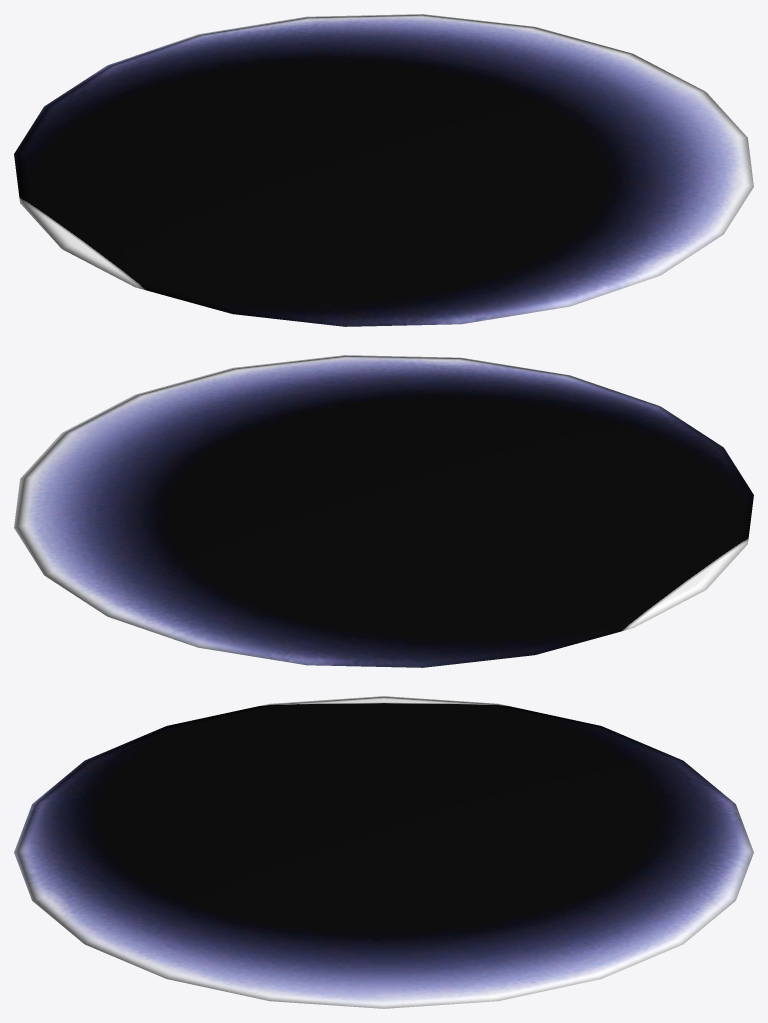
File: swordTrail.FBX
3 views of the same model, one above another, from view 1: azimuth 30°, elevation 25°; view 2: azimuth 150°, elevation 25°; view 3: azimuth 270°, elevation 25° (orthographic).
Parts seen in each view (by area): view 1: SwordTrail1; view 2: SwordTrail1; view 3: SwordTrail1.
Part boxes in pixels (<box>): SwordTrail1: <box>14,14,753,326</box>; SwordTrail1: <box>14,355,753,667</box>; SwordTrail1: <box>14,696,753,1008</box>.
Bounding box in the file's own units: 20.09 × 20.09 × 0.5916.
Materials: 1 (1 with a texture image).
